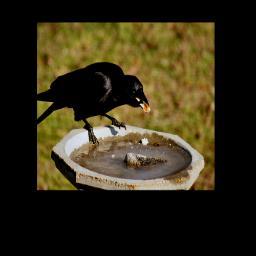Crow: (37, 61, 151, 146)
